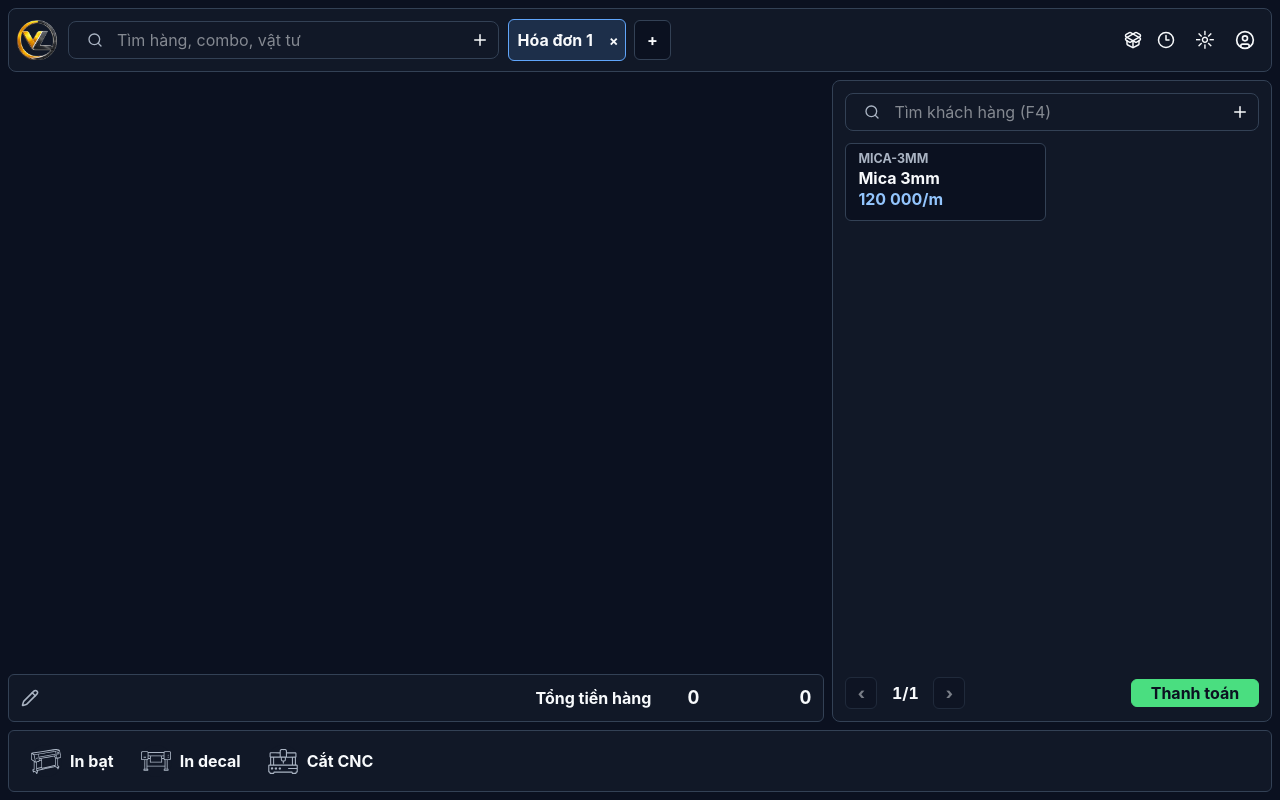
closes POS search results when clicking outside the search area
This screenshot has width=1280, height=800.
Expected: the button "MICA-3MM Mica 3mm 120 000/m" is shown, [845,143,1046,221]
Type "mica" into the field named "Tìm hàng (F3)" at (284, 40), box [69,22,498,58]
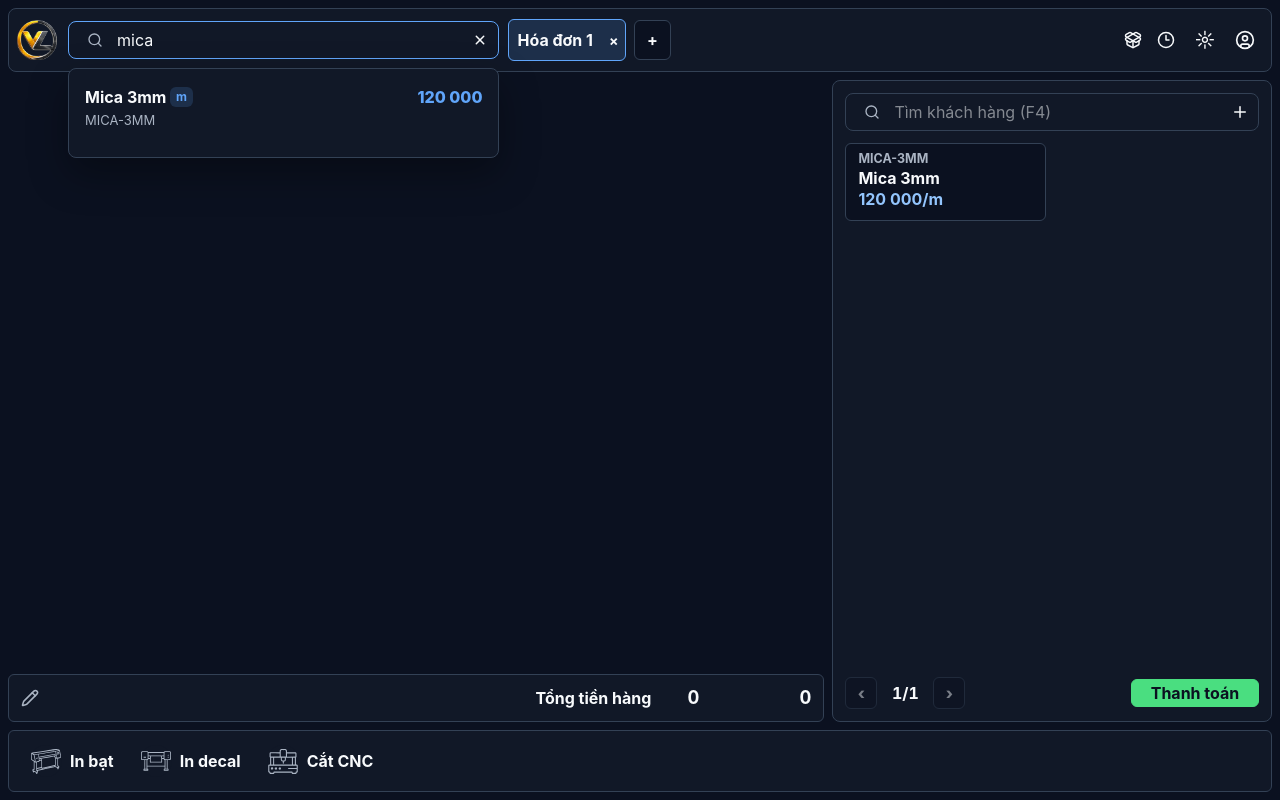
Expected: the list named "Kết quả tìm hàng" is shown, [68,68,500,158]
Click the element named "K02 giỏ hàng" at (416, 698), box [8,674,824,722]
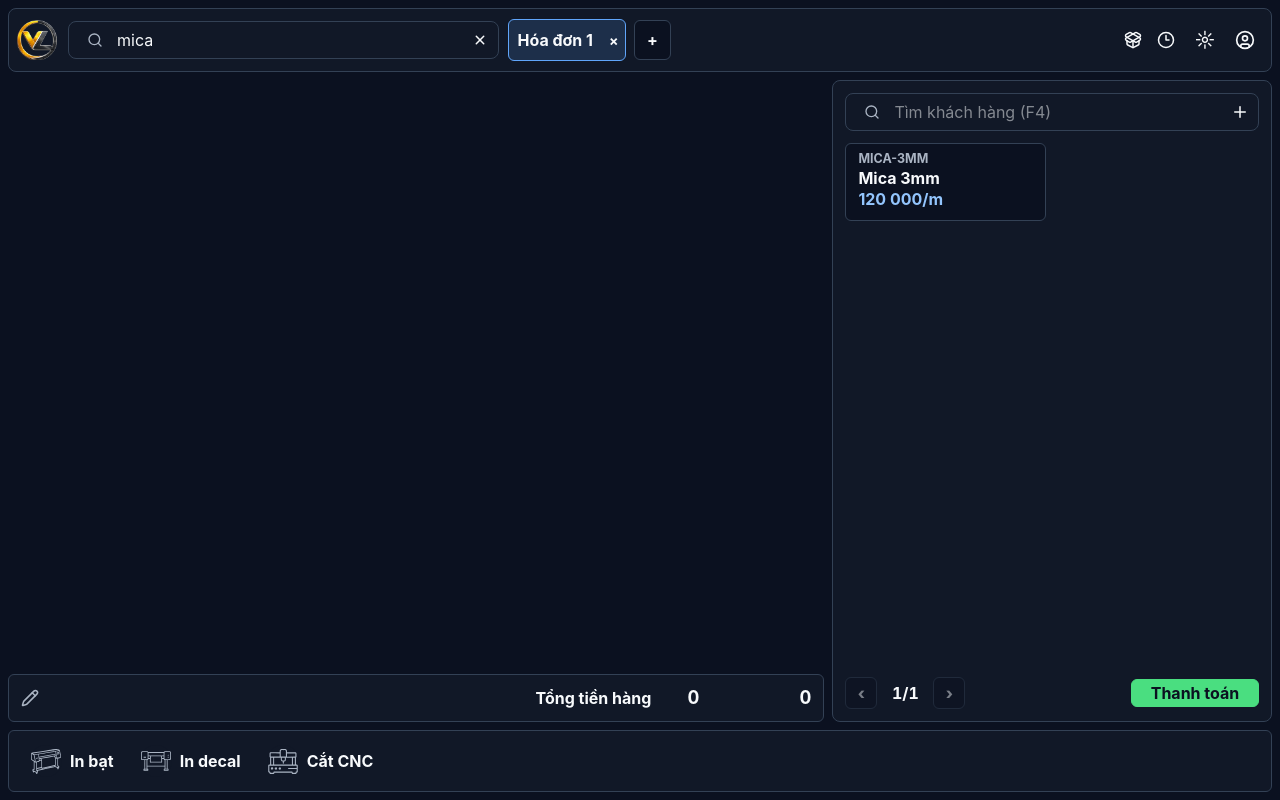
Click the field named "Tìm hàng (F3)" at (284, 40), box [69,22,498,58]
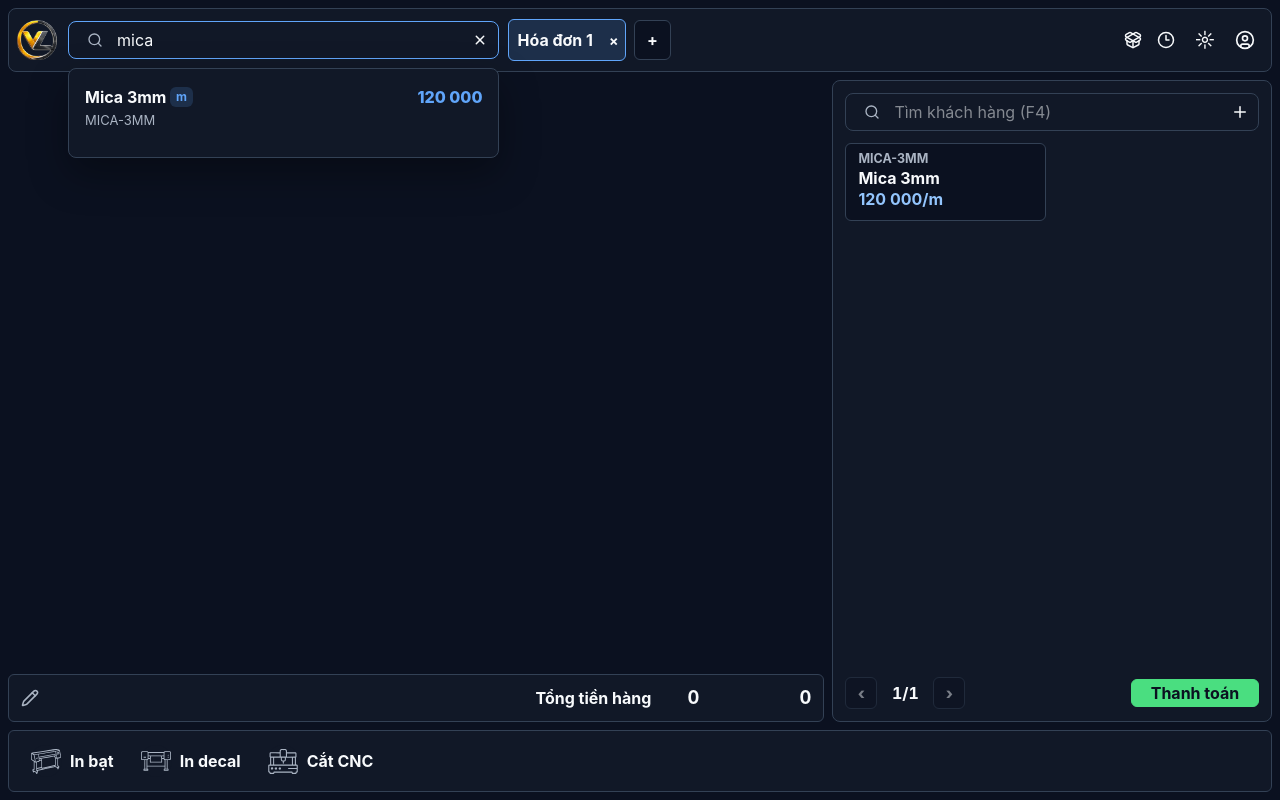
Expected: the list named "Kết quả tìm hàng" is shown, [68,68,500,158]
